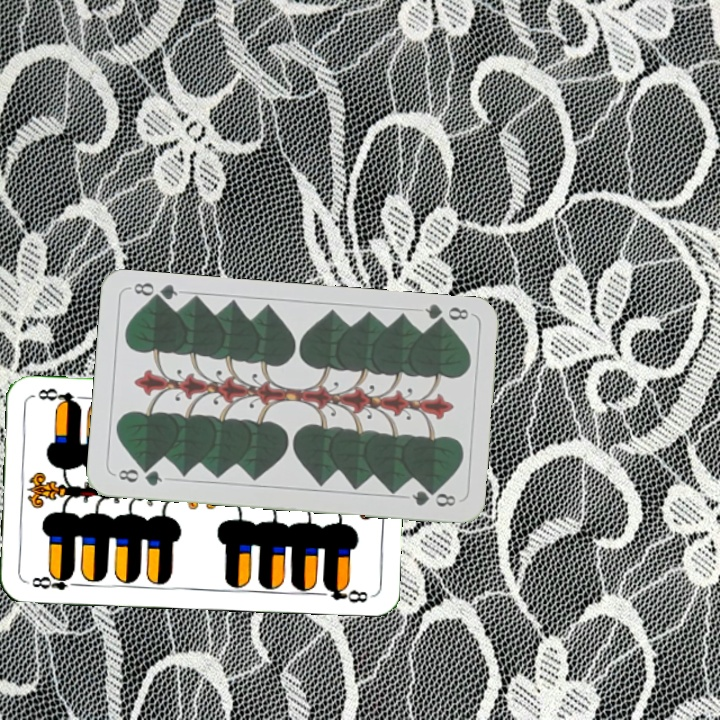E8: (28, 569, 83, 593)
G8: (421, 300, 472, 329), (111, 464, 165, 489)
